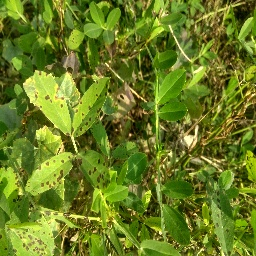GroundNut_Leaf: (24, 73, 71, 137), (73, 77, 109, 139), (26, 151, 74, 196), (212, 185, 233, 256), (6, 226, 52, 255), (1, 33, 34, 68), (80, 152, 110, 190), (156, 68, 187, 102), (161, 202, 190, 238), (139, 239, 180, 255), (85, 2, 103, 37), (161, 181, 194, 200), (127, 154, 147, 183), (158, 103, 187, 122), (1, 102, 17, 132), (159, 11, 187, 27), (151, 49, 177, 66), (237, 17, 254, 42), (104, 7, 121, 31), (68, 30, 86, 48), (248, 151, 256, 185), (37, 46, 48, 70), (103, 192, 127, 201)
